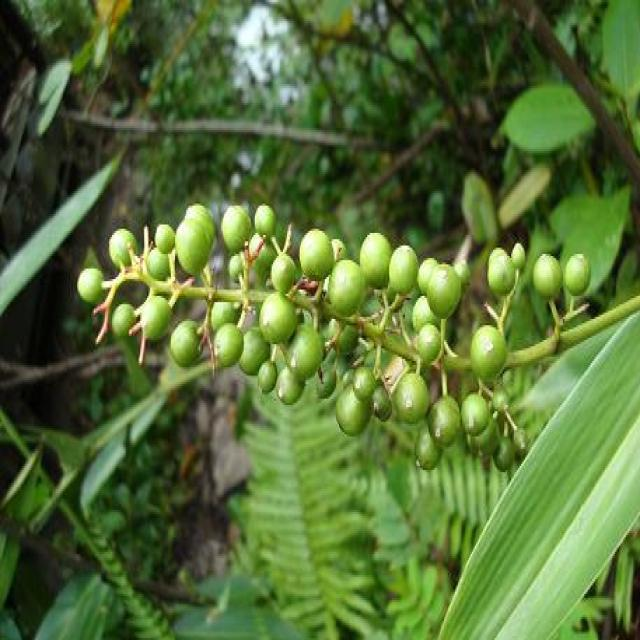Aquatic-Ginger: (75, 202, 592, 474)
